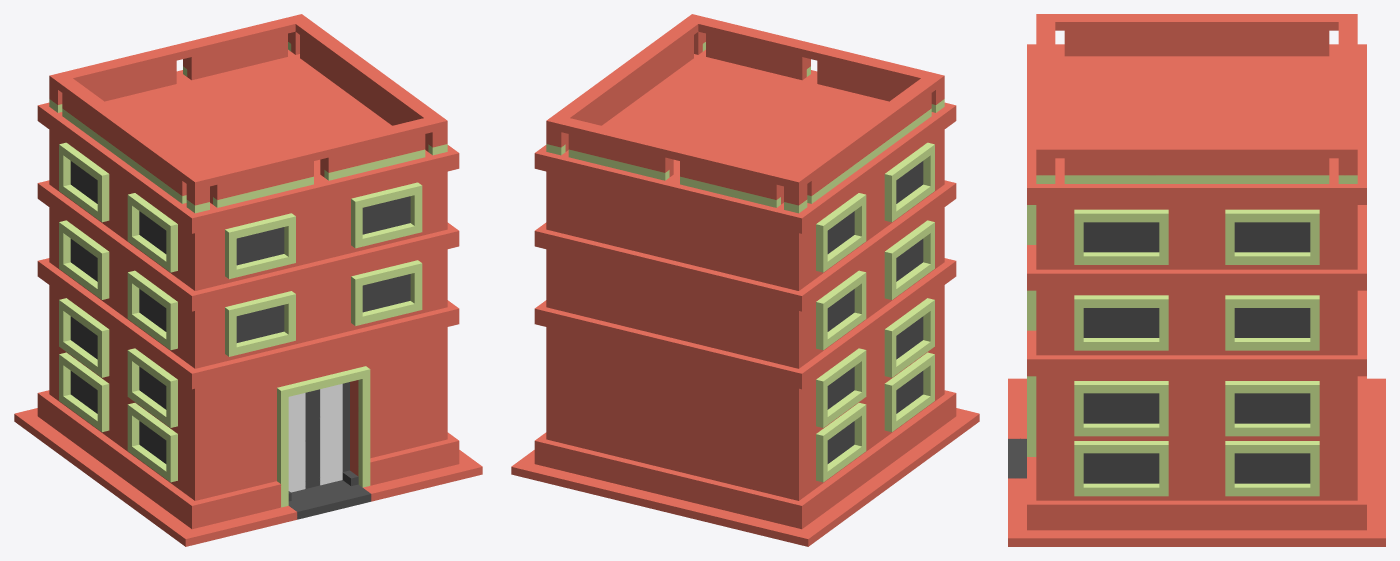
The model's file is Building_5.fbx.
3 renders of one model, left to right at view 1: azimuth 30°, elevation 25°; view 2: azimuth 150°, elevation 25°; view 3: azimuth 270°, elevation 25°, orthographic. The views are drawn at different scales.
Parts seen in each view (by area): view 1: Building_5; view 2: Building_5; view 3: Building_5.
Boxes of the visible parts, bbox=[...] form: Building_5: bbox=[14, 14, 482, 546]; Building_5: bbox=[511, 14, 979, 546]; Building_5: bbox=[1008, 14, 1385, 546].
Bounding box in the file's own units: 40 × 45 × 40.
Materials: 1 (1 with a texture image).
